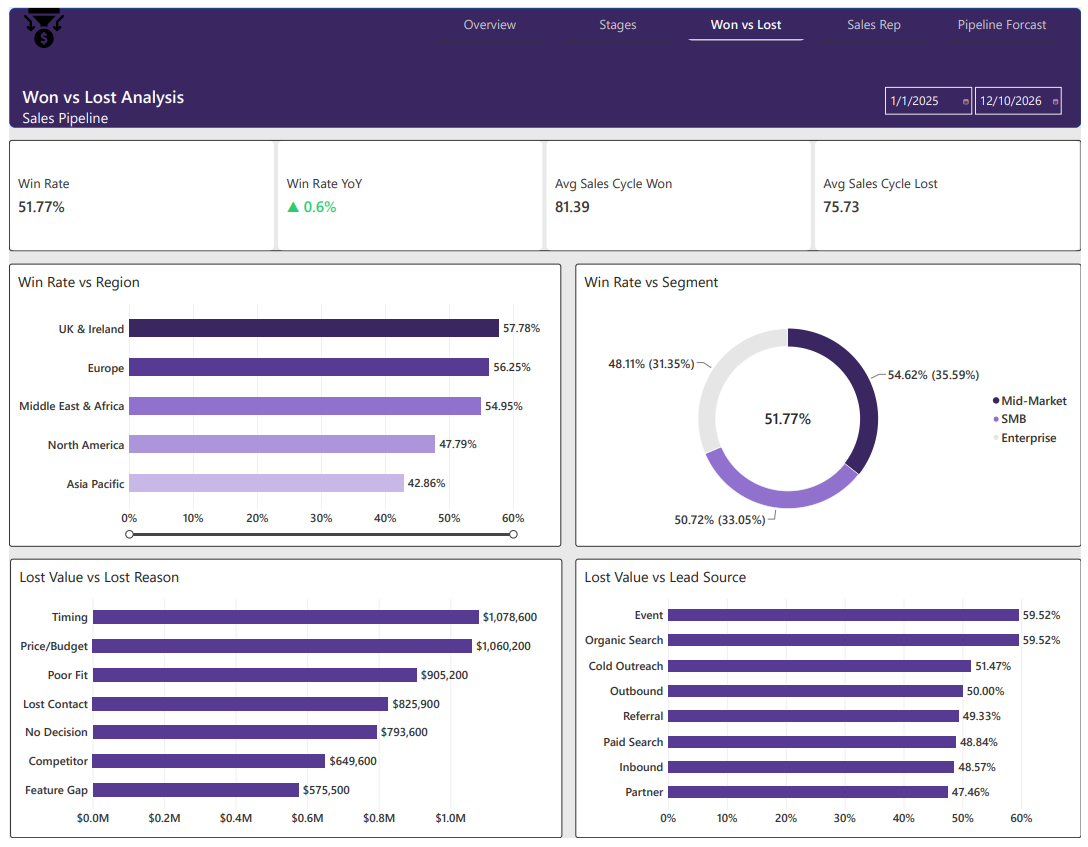

The dashboard page shown, as its layout file describes it:
{"tool":"powerbi","page":{"name":"Won vs Lost","canvas":[2000,1550],"ordinal":2},"visuals":[{"type":"shape","box":[0,0,2000.5,223.6],"z":0},{"type":"image","box":[0,2.5,130.2,71.3],"z":1000},{"type":"textbox","box":[24.6,142.5,464.5,81.1],"z":2000},{"type":"pageNavigator","box":[781.5,0,1187,61.4],"z":3000},{"type":"cardVisual","fields":{"Data":["Measure.Win Rate","Measure.Win Rate YoY % Change","Measure.Avg Sales Cycle Won","Measure.Avg Sales Cycle Lost"]},"box":[0,247.4,2000.5,206.4],"z":4000},{"type":"donutChart","title":"Win Rate vs Segment","fields":{"Category":["Sales_Pipeline.Customer_Segment"],"Y":["Measure.Win Rate"]},"box":[1056.8,477.6,943.7,528.4],"z":5000},{"type":"barChart","title":"Win Rate vs Region","fields":{"Category":["Sales_Pipeline.Region"],"Y":["Measure.Win Rate"]},"box":[0,477.6,1029.7,528.4],"z":6000},{"type":"slicer","fields":{"Values":["Calendar Table.Date"]},"box":[1627,142.5,341.6,61.4],"z":7000},{"type":"barChart","title":"Lost Value vs Lost Reason","fields":{"Category":["Sales_Pipeline.Lost_Reason"],"Y":["Measure.Lost Value"]},"box":[2.5,1029,1029.7,521],"z":8000},{"type":"barChart","title":"Lost Value vs Lead Source","fields":{"Category":["Sales_Pipeline.Lead_Source"],"Y":["Measure.Win Rate"]},"box":[1056.8,1029,943.7,521],"z":9000}]}

Visuals, with their boxes in screenshot pixels (x1, y1, x2, y2), scaled from the page's 2000x1550 canvas onto the 1088x847 screenshot:
shape: [0,0,1087,122]
image: [0,1,71,40]
textbox: [13,78,266,122]
pageNavigator: [425,0,1071,34]
cardVisual - Measure.Win Rate x Measure.Win Rate YoY % Change: [0,135,1087,248]
"Win Rate vs Segment" donutChart: [575,261,1087,550]
"Win Rate vs Region" barChart: [0,261,560,550]
slicer - Calendar Table.Date: [885,78,1071,111]
"Lost Value vs Lost Reason" barChart: [1,562,562,846]
"Lost Value vs Lead Source" barChart: [575,562,1087,846]
